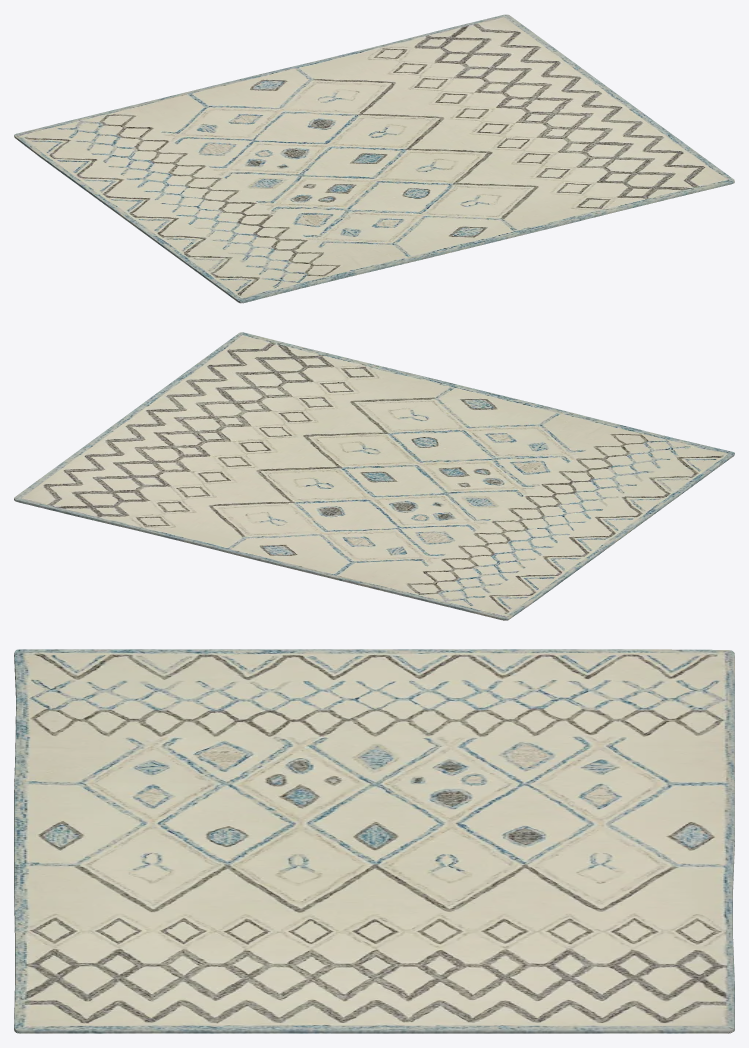
The model's file is abo-B0735RJPD2.glb.
3 views of the same model, one above another, from view 1: azimuth 30°, elevation 25°; view 2: azimuth 150°, elevation 25°; view 3: azimuth 270°, elevation 25° (orthographic). The views are drawn at different scales.
Size of the model in its own units: 3.06 by 0.0131 by 2.44.
1 material, 1 textured.
